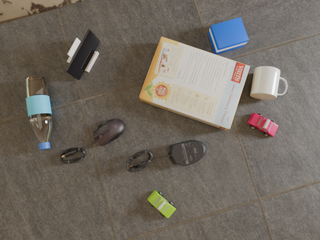bottle: (24, 76, 52, 150)
box: (139, 37, 250, 130), (208, 17, 248, 55)
cup: (250, 66, 287, 100)
mouse: (167, 140, 206, 166), (93, 119, 125, 146)
phone: (66, 30, 100, 80)
toy_car: (148, 190, 176, 218), (247, 113, 278, 137)
